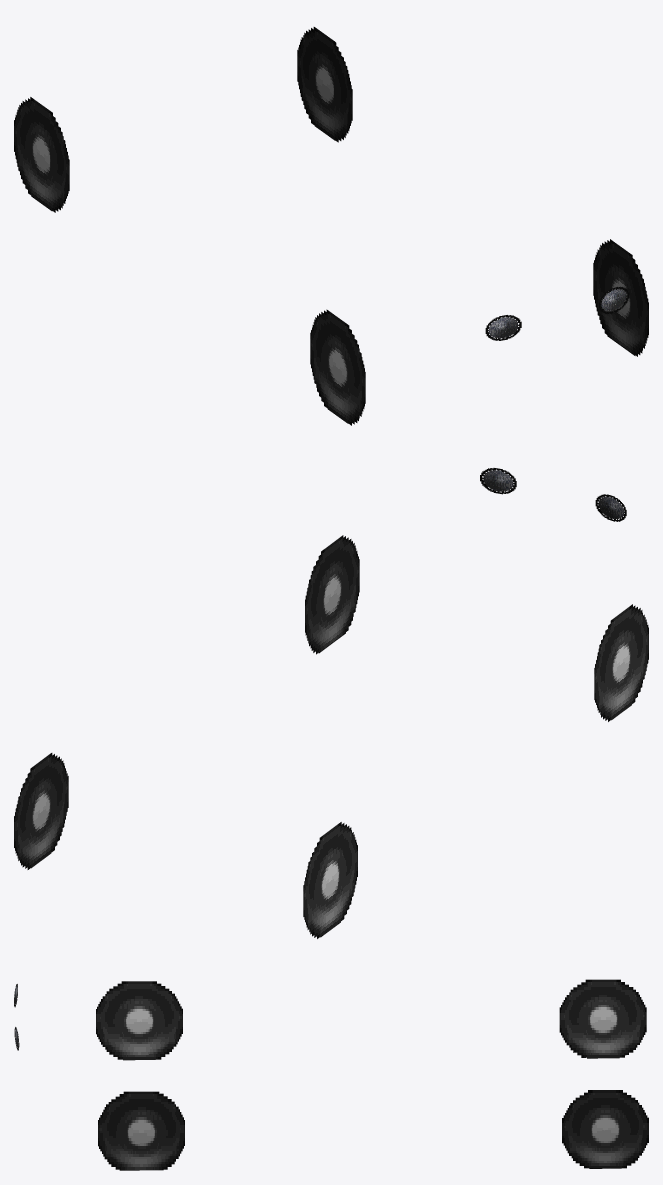
Rendered from car_secondary_2.glb.
The picture shows the model from 3 angles, top to bottom: view 1: azimuth 30°, elevation 25°; view 2: azimuth 150°, elevation 25°; view 3: azimuth 270°, elevation 25°; orthographic projection. The views are drawn at different scales.
Parts seen in each view (by area): view 1: Object; view 2: Object; view 3: Object.
Part boxes in pixels (bbox=[...]): Object: bbox=[14, 27, 648, 425]; Object: bbox=[14, 468, 648, 938]; Object: bbox=[14, 979, 648, 1170].
Bounding box in the file's own units: 1.86 × 0.8396 × 4.45.
Materials: 6 (6 with a texture image).
